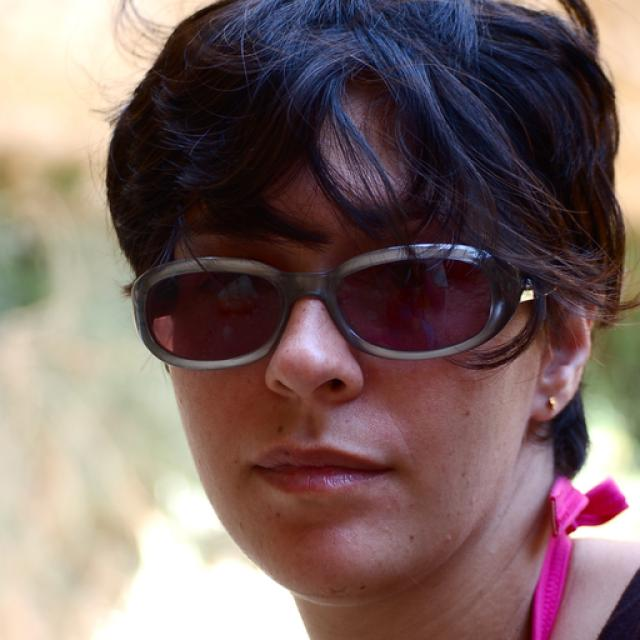Acne: (438, 520, 460, 554)
